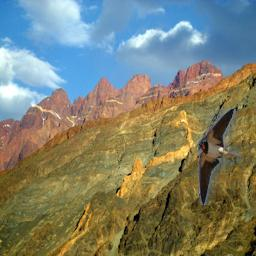Swallow: (198, 109, 254, 205)
